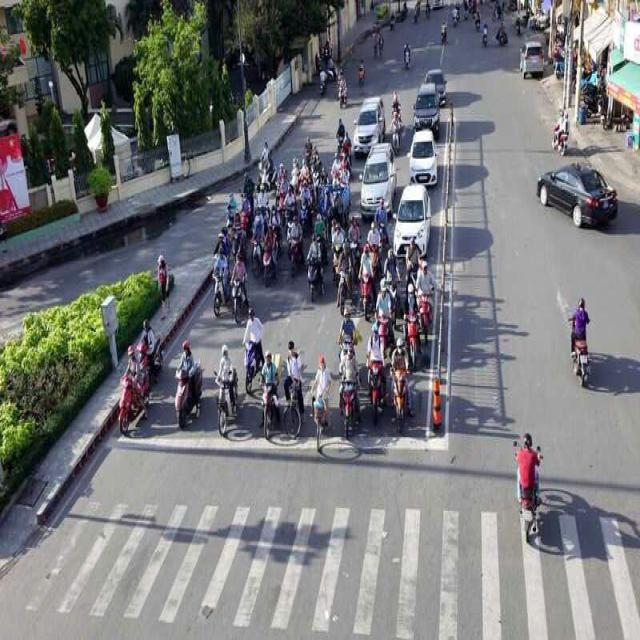Bicycle: (316, 358, 332, 457), (288, 343, 302, 442)
car: (542, 160, 618, 232), (362, 146, 396, 218), (397, 188, 429, 255), (354, 94, 384, 150), (411, 133, 438, 185), (417, 82, 438, 134), (516, 40, 544, 78), (426, 66, 446, 106)
motobyte: (517, 432, 541, 548), (572, 295, 596, 400), (176, 346, 202, 431), (213, 356, 238, 437), (391, 342, 410, 429), (118, 352, 138, 433), (262, 362, 281, 440), (368, 329, 384, 421), (244, 324, 264, 389), (140, 320, 160, 383), (343, 350, 356, 440), (404, 290, 417, 368), (418, 263, 431, 340), (376, 281, 390, 348), (233, 254, 246, 323), (213, 252, 226, 320), (341, 302, 354, 369), (309, 240, 323, 298), (261, 144, 276, 197), (264, 226, 277, 283), (341, 246, 352, 312), (362, 251, 372, 320), (270, 207, 283, 256), (290, 218, 301, 274), (554, 113, 568, 154), (333, 228, 343, 282), (233, 217, 245, 262), (369, 222, 381, 265), (284, 189, 296, 231), (254, 222, 262, 282), (352, 221, 361, 273), (299, 184, 308, 232), (240, 197, 250, 236), (224, 189, 233, 231), (279, 175, 288, 217), (377, 203, 386, 242), (342, 134, 350, 174), (312, 162, 320, 200), (314, 216, 326, 240), (256, 189, 267, 215), (393, 117, 400, 156), (319, 188, 328, 216), (336, 126, 343, 162), (392, 89, 400, 119), (334, 190, 341, 222), (358, 60, 366, 87), (340, 79, 348, 106), (301, 162, 308, 186), (292, 160, 298, 186), (333, 163, 339, 188), (482, 24, 488, 48), (405, 43, 410, 67), (500, 24, 505, 48), (441, 23, 446, 45), (454, 5, 458, 30), (476, 8, 480, 31)
